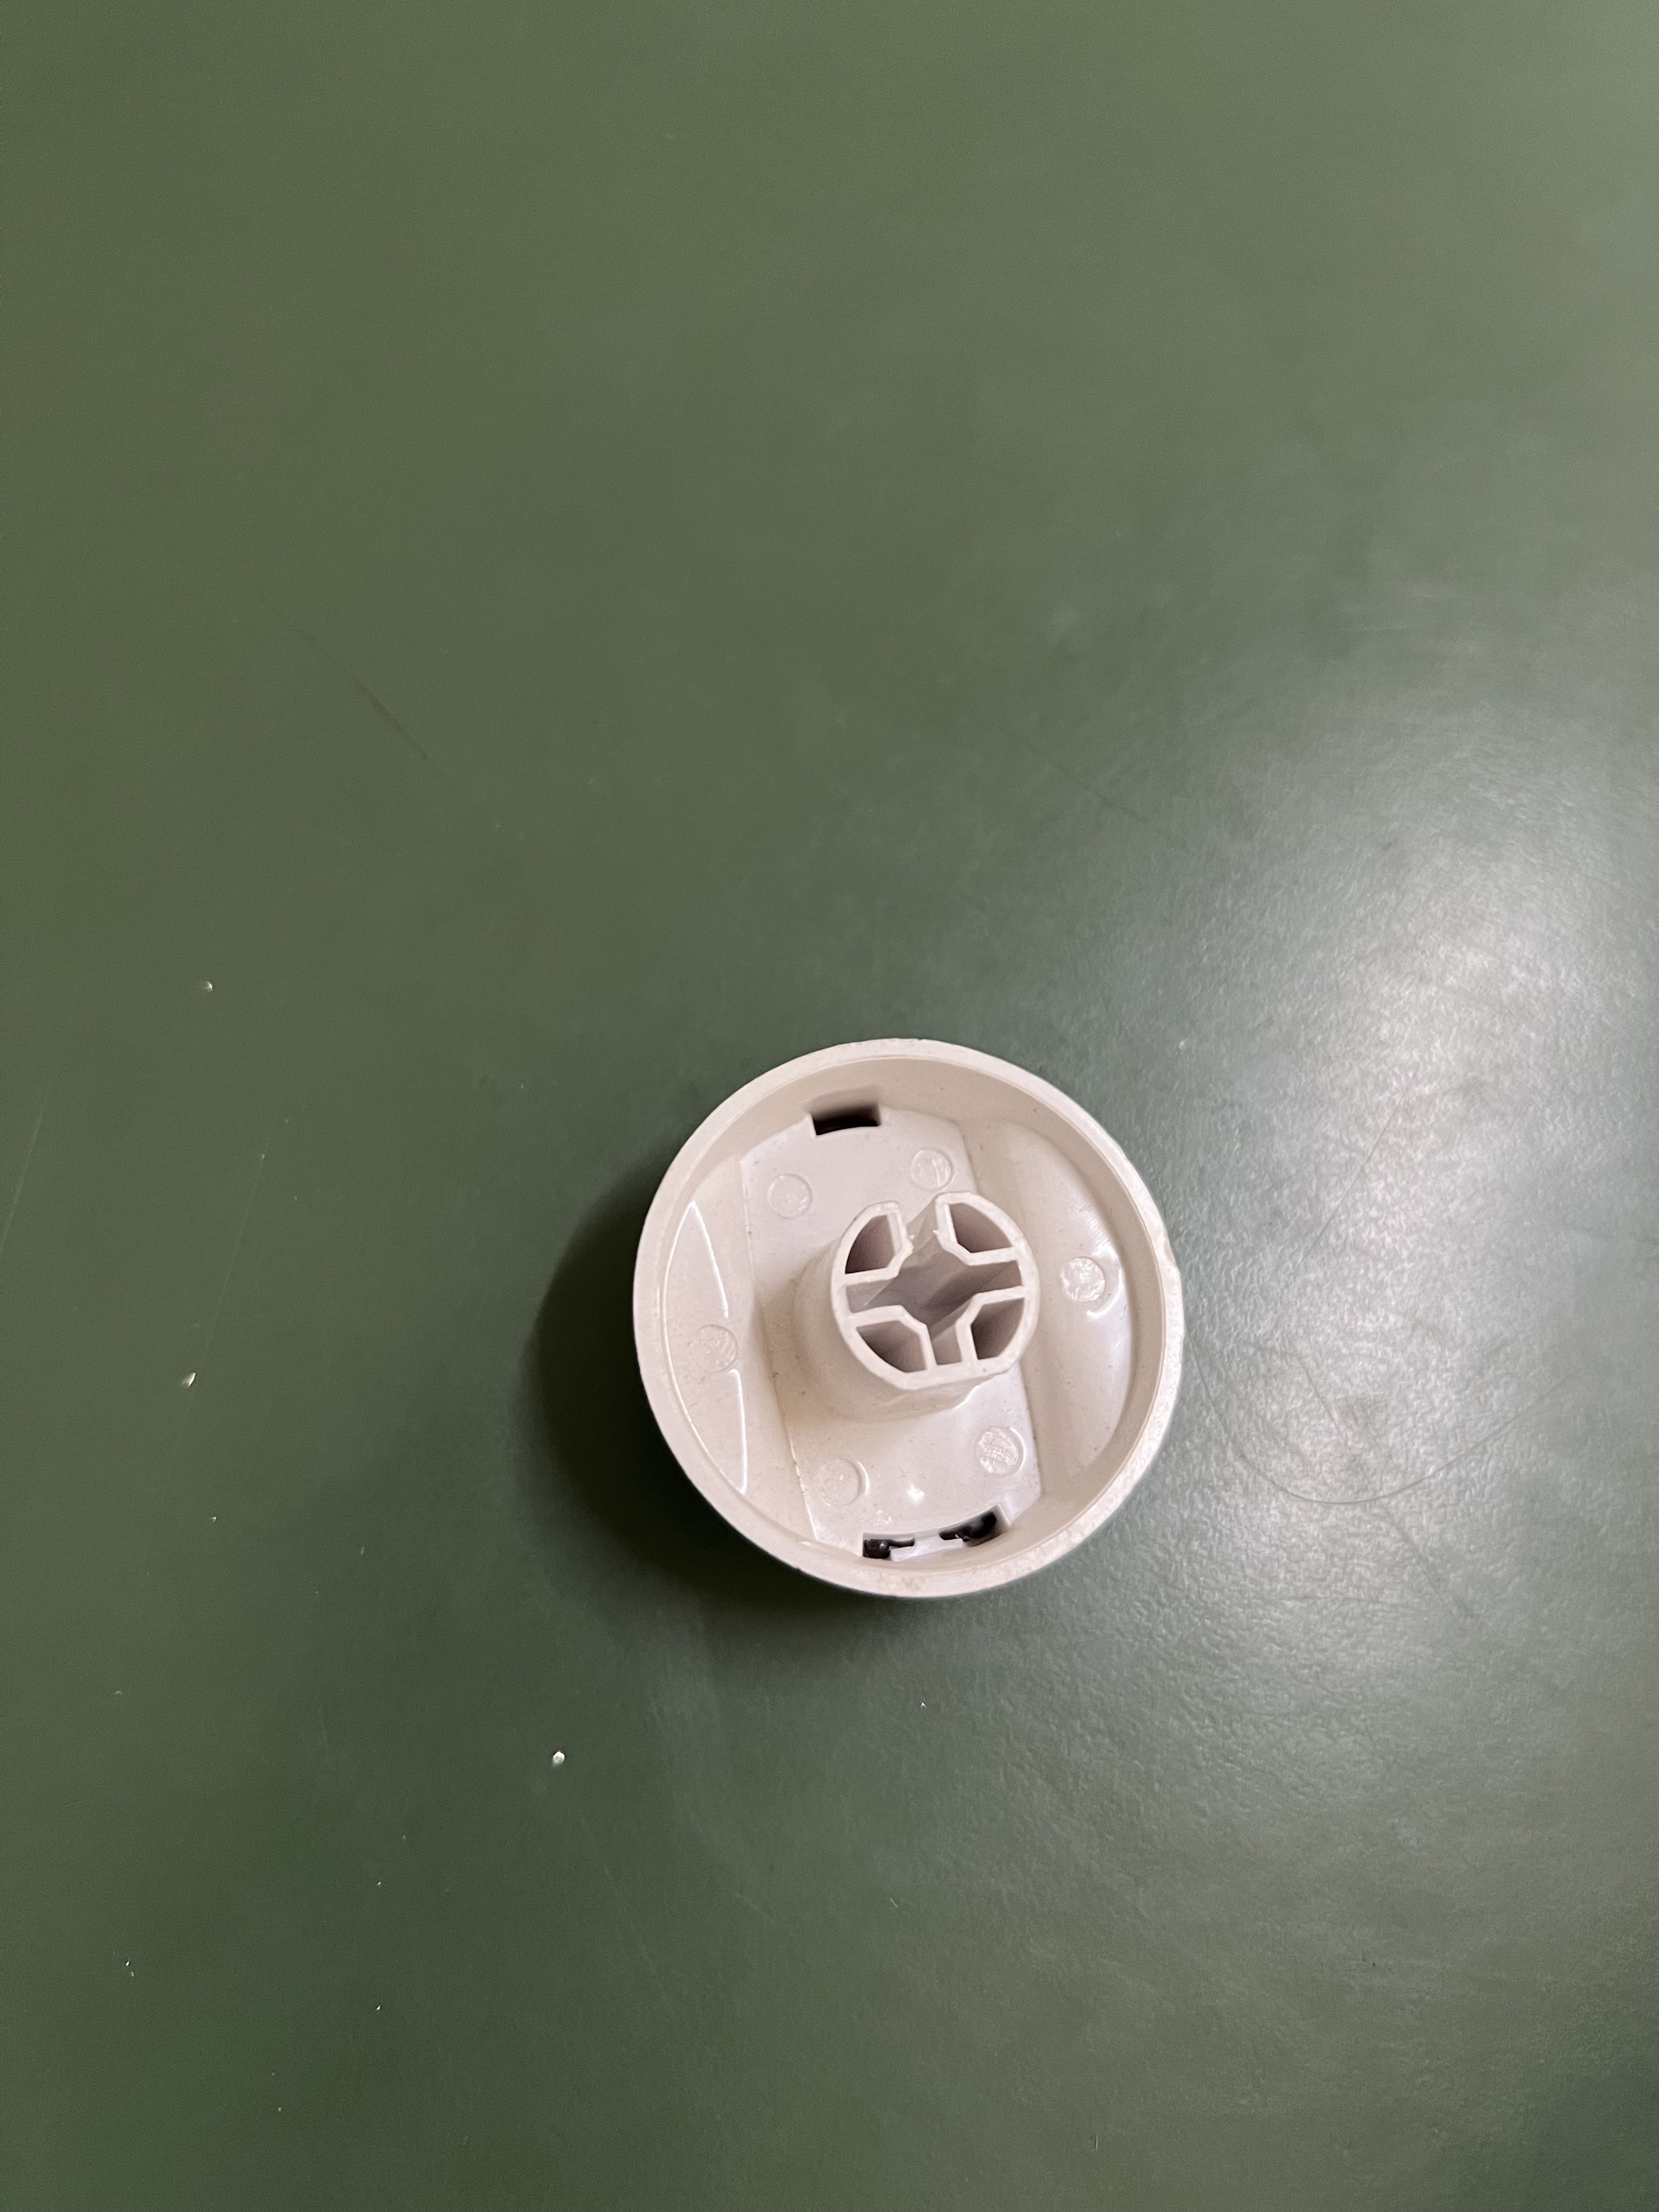regulator: (573, 1005, 1229, 1625)
